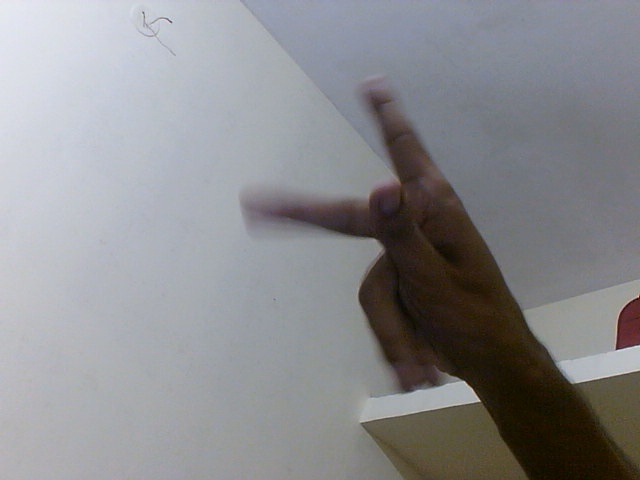hand: (236, 71, 528, 398)
